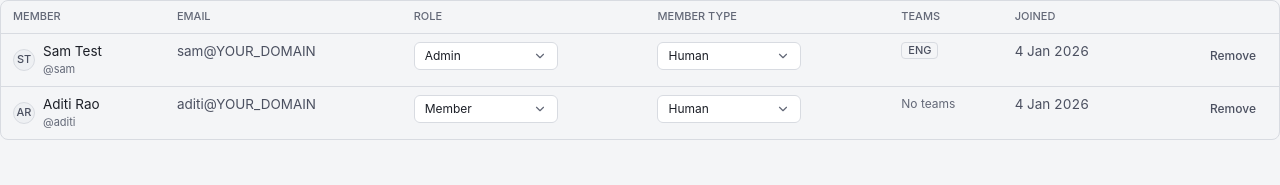
Test: MembersTable › surfaces the last admin conflict inline next to the member
Click the button "Remove" in the row of "Sam Test" at (1233, 56), box [1199,42,1267,70]
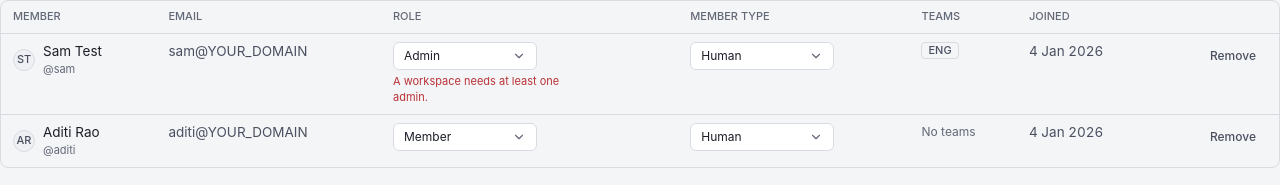
Check: the message reads "A workspace needs at least one admin.", box [393,74,559,104]
